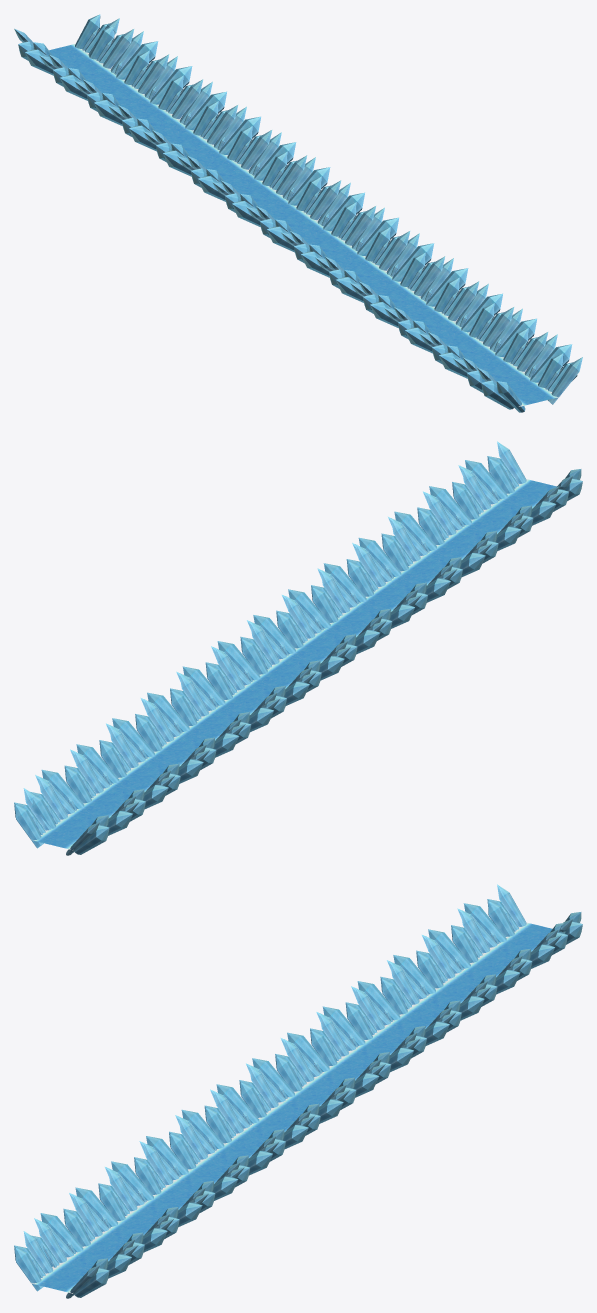
The model's file is sorrow_map.fbx.
The picture shows the model from 3 angles, top to bottom: view 1: azimuth 30°, elevation 25°; view 2: azimuth 150°, elevation 25°; view 3: azimuth 330°, elevation 25°; orthographic projection. The views are drawn at different scales.
Parts seen in each view (by area): view 1: sorrowmap.006; view 2: sorrowmap.006; view 3: sorrowmap.006.
Part boxes in pixels (bbox=[...]): sorrowmap.006: bbox=[14, 14, 582, 412]; sorrowmap.006: bbox=[14, 441, 582, 855]; sorrowmap.006: bbox=[14, 884, 582, 1298].
Bounding box in the file's own units: 1867 × 694 × 14135.
